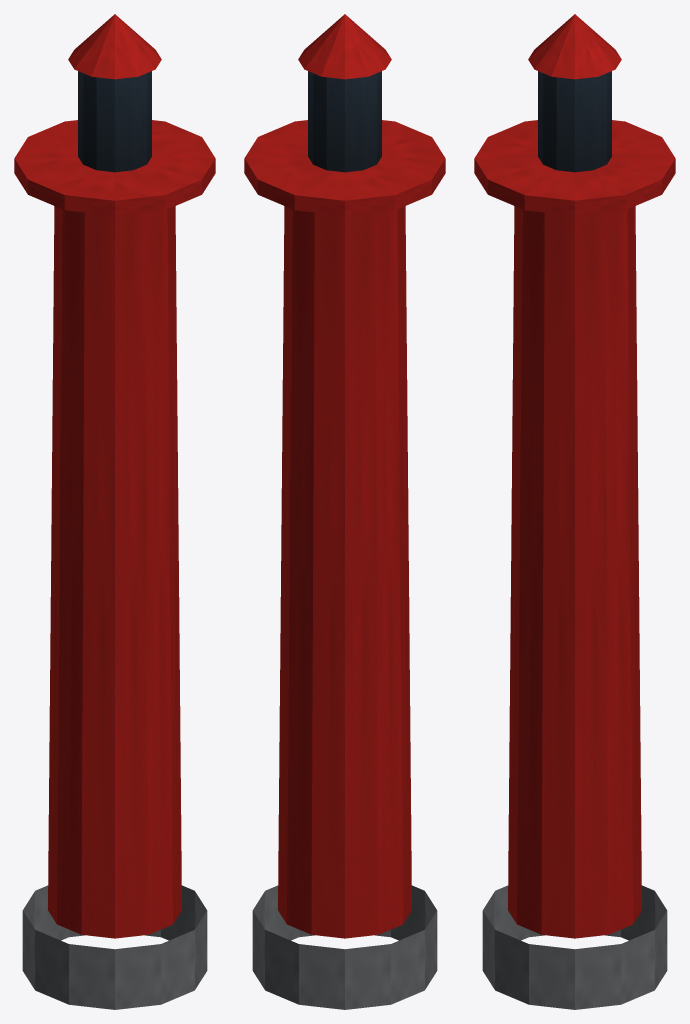
File: SM_Mirabello_Fanale.fbx
The picture shows the model from 3 angles, left to right: view 1: azimuth 30°, elevation 25°; view 2: azimuth 150°, elevation 25°; view 3: azimuth 270°, elevation 25°; orthographic projection.
Visible parts, largest first — view 1: SM_Mirabello_Fanale; view 2: SM_Mirabello_Fanale; view 3: SM_Mirabello_Fanale.
Boxes of the visible parts, box(x1,y1,x2,y2) form: SM_Mirabello_Fanale: box(14, 14, 215, 1009); SM_Mirabello_Fanale: box(244, 14, 445, 1009); SM_Mirabello_Fanale: box(474, 14, 675, 1009).
Bounding box in the file's own units: 120 × 120 × 630.
Materials: 1 (1 with a texture image).
